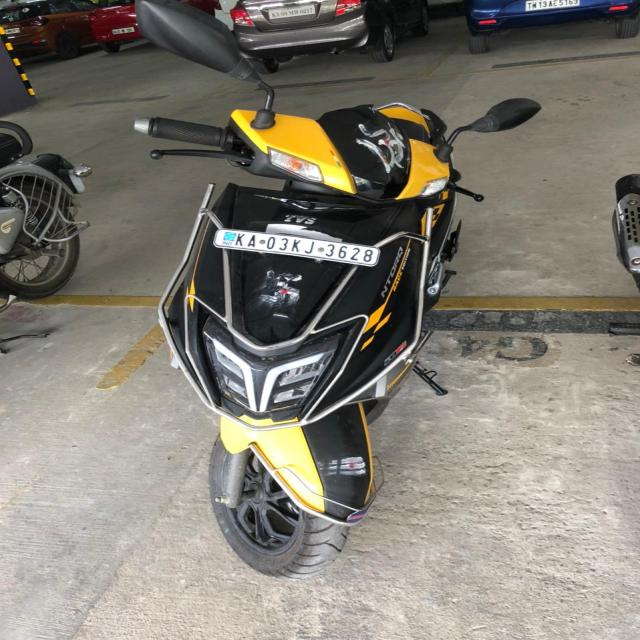number plate: (212, 227, 381, 267)
